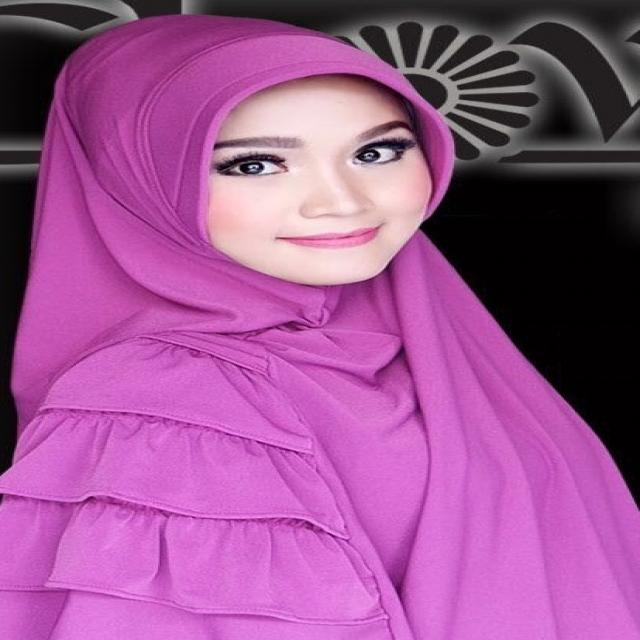head: (53, 19, 469, 292)
